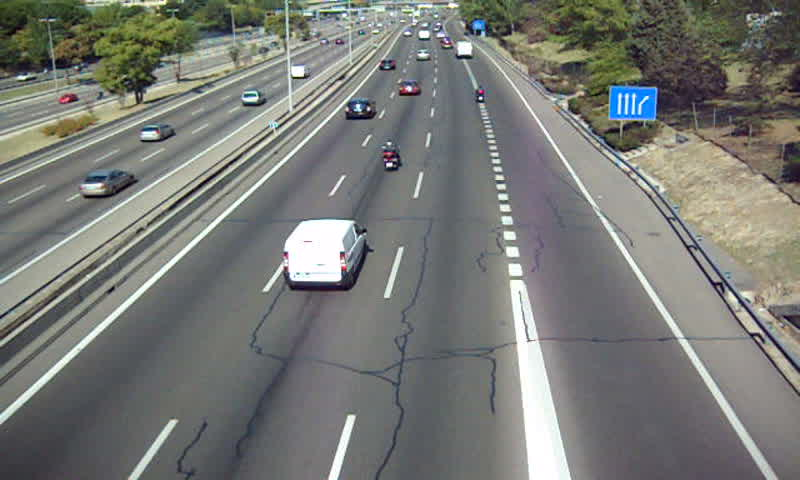car: (343, 97, 378, 121), (396, 81, 419, 96), (378, 58, 396, 72), (414, 48, 430, 62)
motorcycle: (382, 139, 398, 174), (475, 85, 485, 106)
van: (281, 219, 367, 289), (456, 40, 474, 59)
